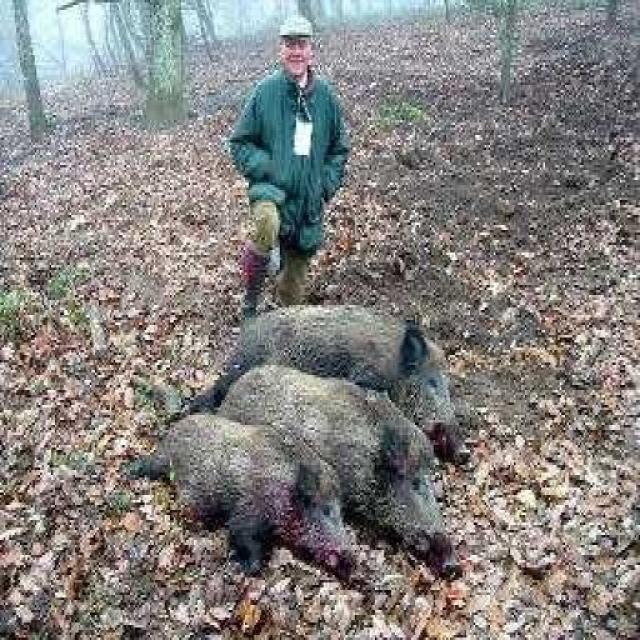pig: (256, 366, 491, 572), (265, 288, 500, 450), (161, 391, 329, 586)
